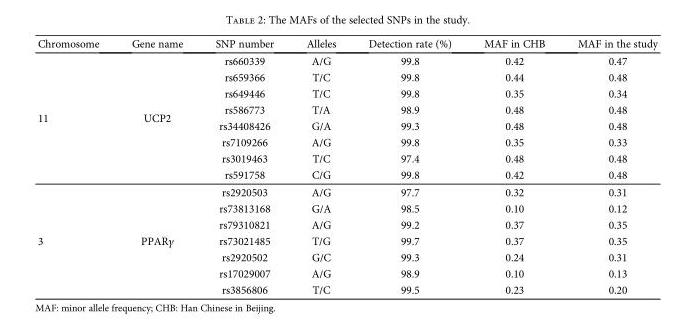table: (36, 36, 656, 295)
table column: (351, 36, 467, 295), (560, 36, 656, 295), (467, 36, 560, 295), (198, 36, 289, 295), (114, 36, 198, 295), (36, 36, 114, 295), (289, 36, 351, 295)
table column header: (36, 36, 656, 51)
table row: (36, 51, 656, 68), (36, 68, 656, 85), (36, 149, 656, 166), (36, 166, 656, 183), (36, 199, 656, 216), (36, 264, 656, 281), (36, 85, 656, 101), (36, 101, 656, 117), (36, 117, 656, 133), (36, 133, 656, 149), (36, 183, 656, 199), (36, 216, 656, 232), (36, 232, 656, 248), (36, 248, 656, 264), (36, 36, 656, 51), (36, 281, 656, 295)
table spanning cell: (114, 51, 198, 183), (36, 51, 114, 183), (114, 183, 198, 295), (36, 183, 114, 295)
